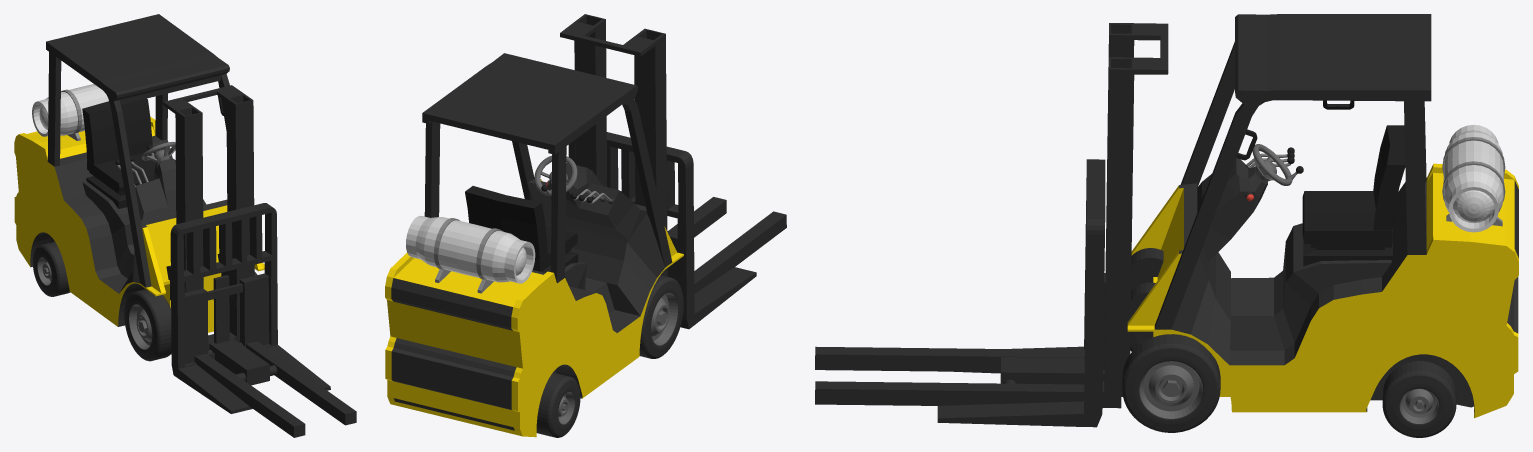
The model's file is Mesh_Forklift_FV (1).fbx.
3 views of the same model, side by side, from view 1: azimuth 30°, elevation 25°; view 2: azimuth 150°, elevation 25°; view 3: azimuth 270°, elevation 25° (orthographic). The views are drawn at different scales.
Visible parts, largest first — view 1: Cabina_central_modelo, Pala, Estructura_pala, Cube.034, Ruedas_delanteras, Rueda_atras_izquierda, Bolante; view 2: Cabina_central_modelo, Estructura_pala, Pala, Cube.034, Ruedas_delanteras, Rueda_atras_izquierda, Bolante; view 3: Cabina_central_modelo, Cube.034, Estructura_pala, Pala, Ruedas_delanteras.001, Rueda_atras_iderecha, Bolante.
Part boxes in pixels (bbox=[...]): Cabina_central_modelo: bbox=[14, 14, 264, 332]; Pala: bbox=[170, 203, 330, 413]; Estructura_pala: bbox=[163, 85, 254, 349]; Cube.034: bbox=[194, 336, 356, 437]; Ruedas_delanteras: bbox=[124, 289, 171, 361]; Rueda_atras_izquierda: bbox=[32, 241, 70, 296]; Bolante: bbox=[141, 141, 175, 162]; Cabina_central_modelo: bbox=[385, 53, 683, 437]; Estructura_pala: bbox=[560, 14, 667, 276]; Pala: bbox=[568, 132, 756, 329]; Cube.034: bbox=[668, 197, 786, 293]; Ruedas_delanteras: bbox=[639, 275, 683, 358]; Rueda_atras_izquierda: bbox=[536, 372, 580, 437]; Bolante: bbox=[534, 155, 577, 196]; Cabina_central_modelo: bbox=[1127, 14, 1518, 418]; Cube.034: bbox=[815, 346, 1121, 408]; Estructura_pala: bbox=[1104, 23, 1168, 396]; Pala: bbox=[937, 159, 1105, 427]; Ruedas_delanteras.001: bbox=[1122, 334, 1220, 432]; Rueda_atras_iderecha: bbox=[1382, 361, 1456, 437]; Bolante: bbox=[1252, 144, 1303, 185].
Bounding box in the file's own units: 1.24 × 2.4 × 4.36.
